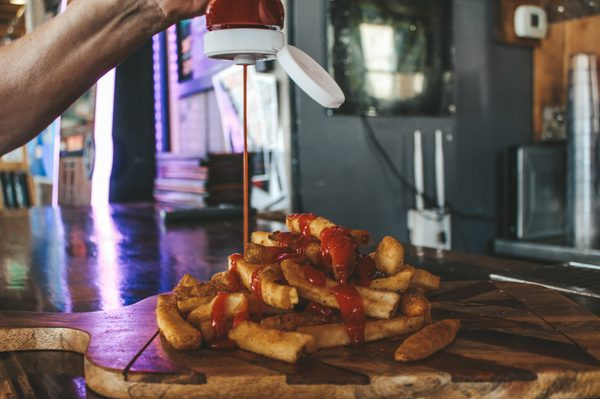pasta: (0, 327, 91, 397)
sandwich: (155, 213, 437, 363)
